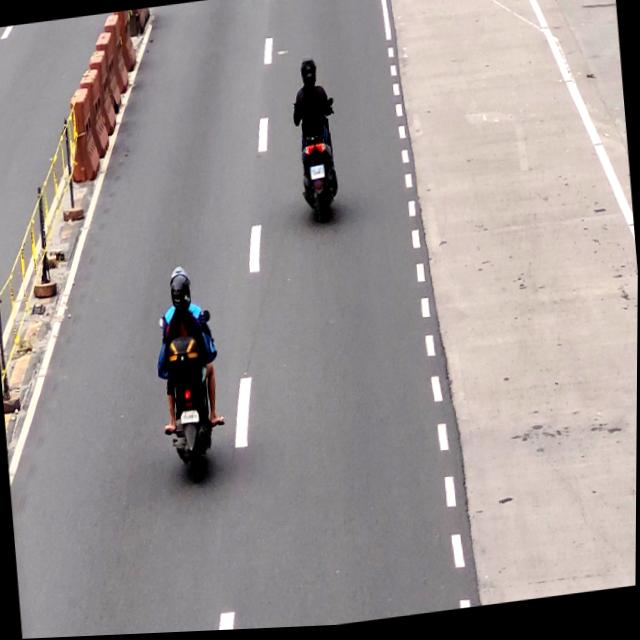License-Plate: (178, 409, 202, 428), (308, 166, 327, 184)
Motorcycle: (151, 266, 226, 488), (288, 51, 342, 222)
